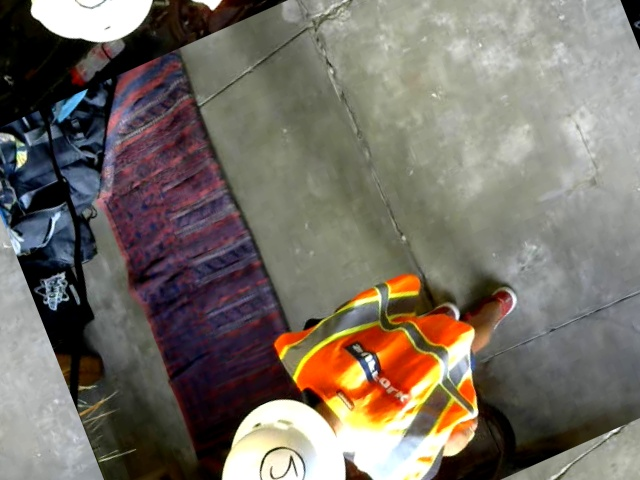two: (248, 438, 312, 479)
